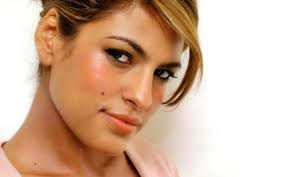mole: (97, 89, 105, 99)
